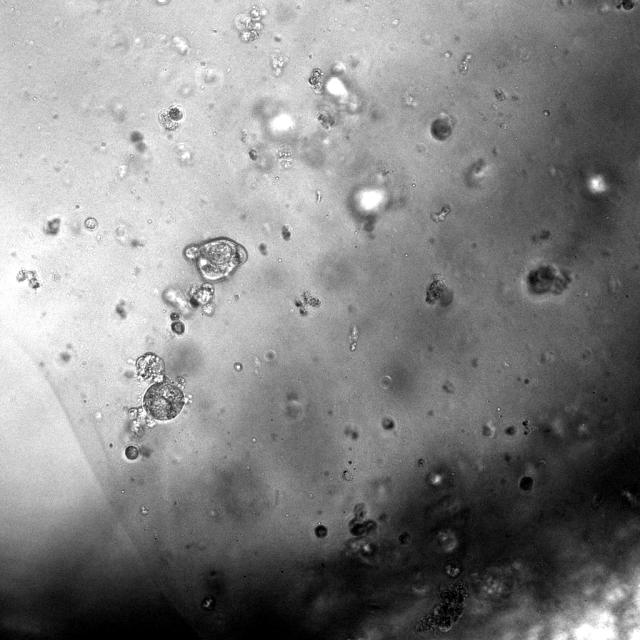organoid: (128, 352, 185, 434), (184, 237, 248, 282), (416, 581, 468, 631), (162, 284, 214, 333), (346, 503, 378, 559), (525, 262, 571, 295), (234, 5, 266, 42), (425, 274, 452, 306), (159, 104, 184, 131), (294, 291, 321, 315), (17, 267, 41, 289), (431, 115, 452, 140), (308, 68, 323, 93), (431, 204, 451, 221), (444, 561, 461, 577), (201, 594, 216, 611), (124, 444, 139, 460), (381, 416, 395, 430), (314, 524, 327, 538), (84, 217, 97, 231), (519, 477, 532, 490), (398, 532, 411, 545), (282, 224, 291, 240), (249, 150, 257, 160)
